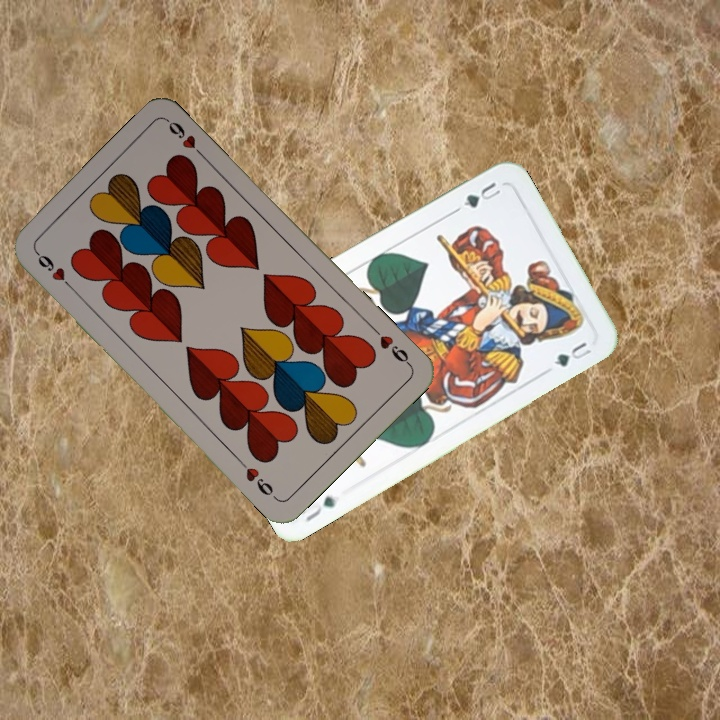GU: (459, 178, 503, 211), (296, 491, 338, 524)
H9: (32, 247, 78, 294), (368, 323, 414, 369)
